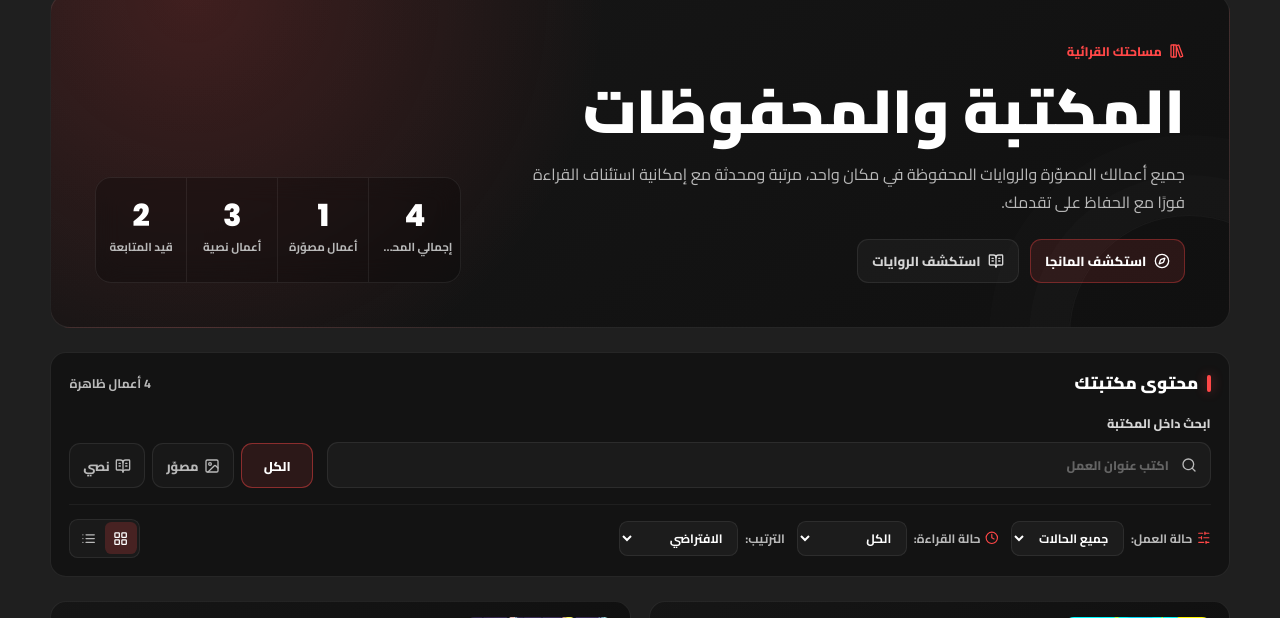
Test: LibraryScreen › filters saved works by type and title without losing the library
Click the button "نصي" at coordinates (107, 466), box left=69, top=443, right=145, bottom=488
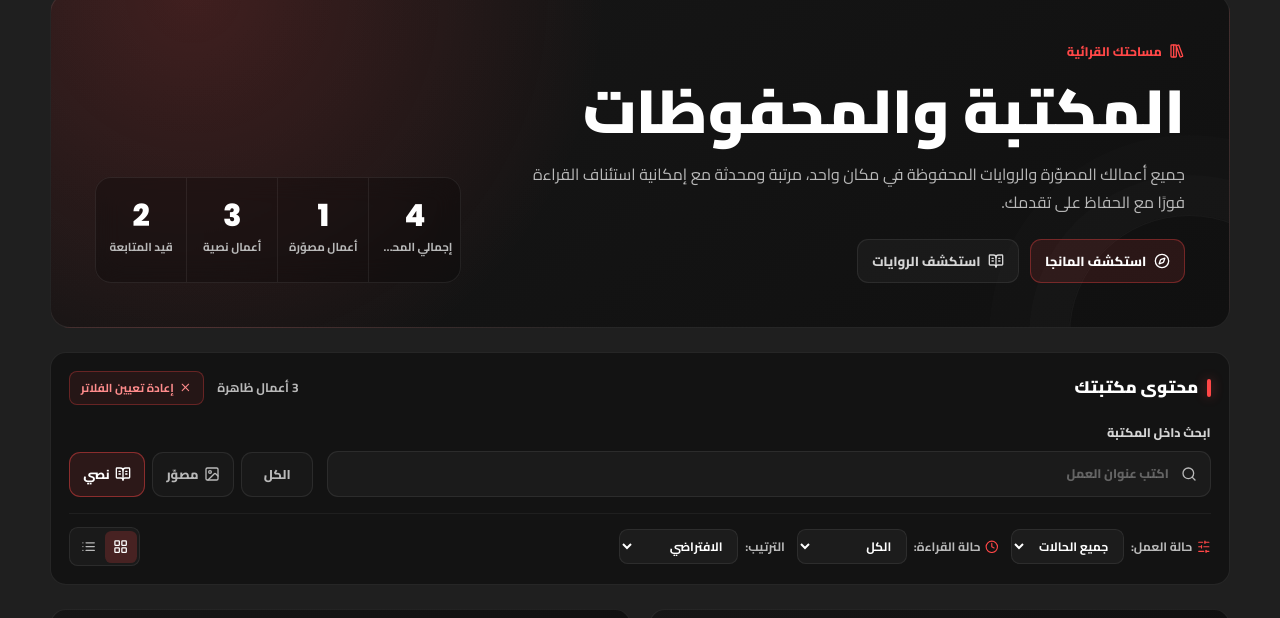
Type "لا يطابق" into the search field labelled "ابحث داخل المكتبة" at coordinates (769, 474), box left=327, top=451, right=1211, bottom=497
(page scrolled)
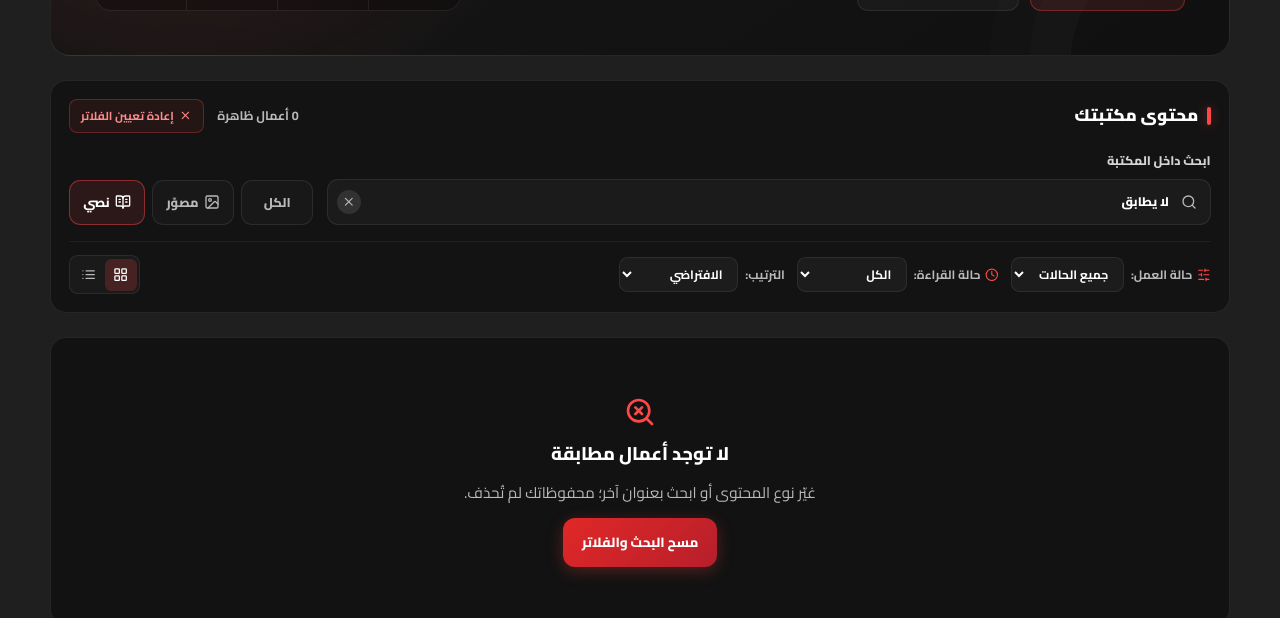
Result: the heading "لا توجد أعمال مطابقة" is shown at left=551, top=440, right=729, bottom=468
